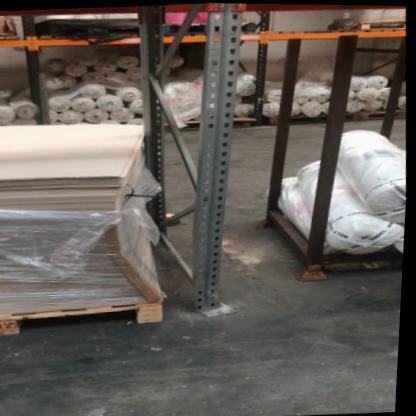vertical_damage: (182, 272, 241, 321)
